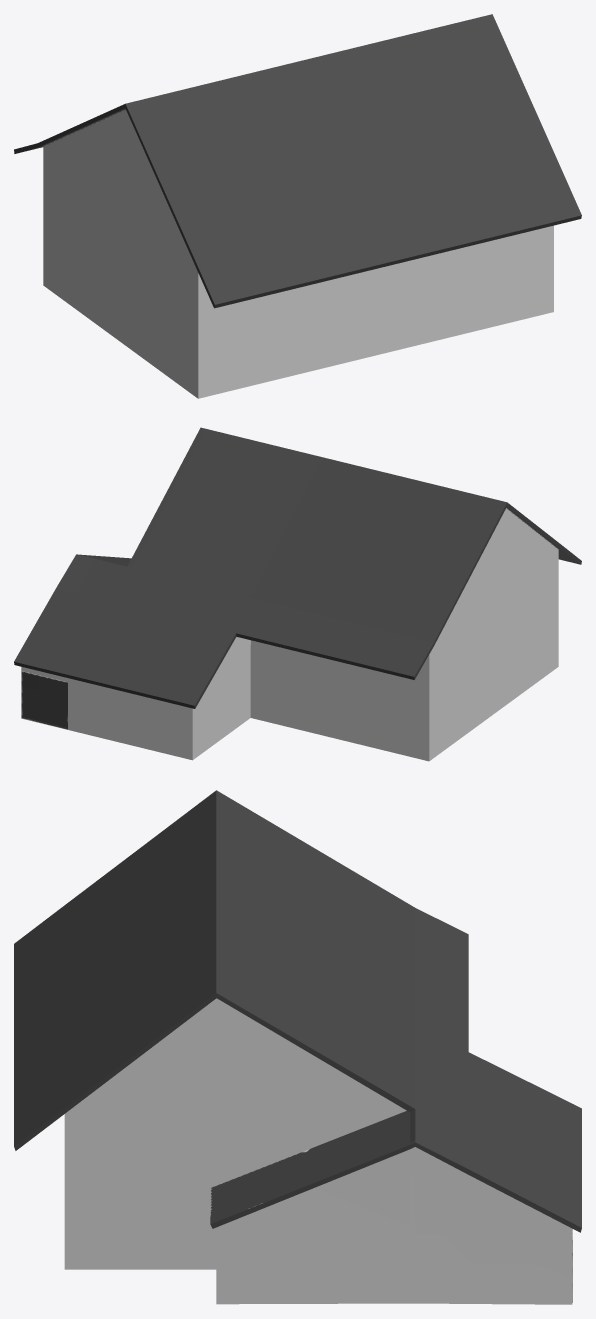
File: CasinhaGaragem.fbx
The picture shows the model from 3 angles, top to bottom: view 1: azimuth 30°, elevation 25°; view 2: azimuth 150°, elevation 25°; view 3: azimuth 270°, elevation 25°; orthographic projection. The views are drawn at different scales.
Parts seen in each view (by area): view 1: CasinhaGaragem; view 2: CasinhaGaragem; view 3: CasinhaGaragem.
Part boxes in pixels (x1,y1,x2,y2): CasinhaGaragem: (14, 14, 581, 398); CasinhaGaragem: (14, 427, 581, 761); CasinhaGaragem: (14, 790, 581, 1304).
Size of the model in its own units: 2184 by 1203 by 2212.
